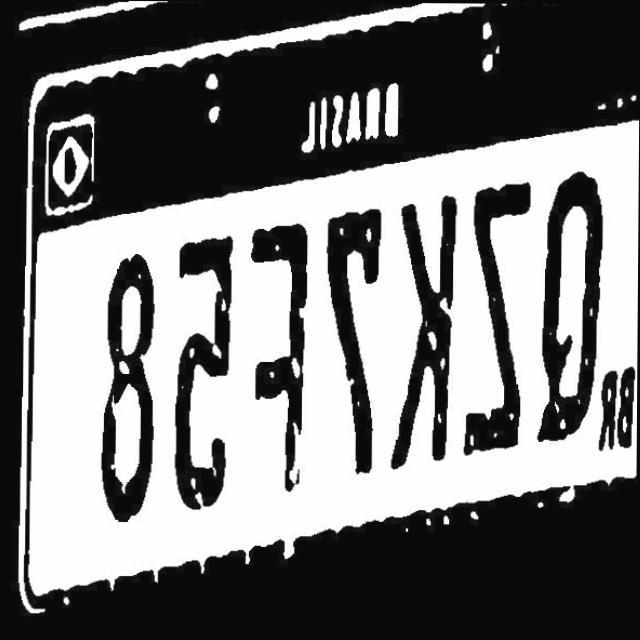5: (174, 234, 233, 512)
7: (325, 208, 385, 475)
8: (100, 250, 157, 525)
f: (249, 221, 310, 494)
k: (390, 191, 459, 470)
q: (538, 169, 607, 443)
z: (464, 180, 533, 456)
